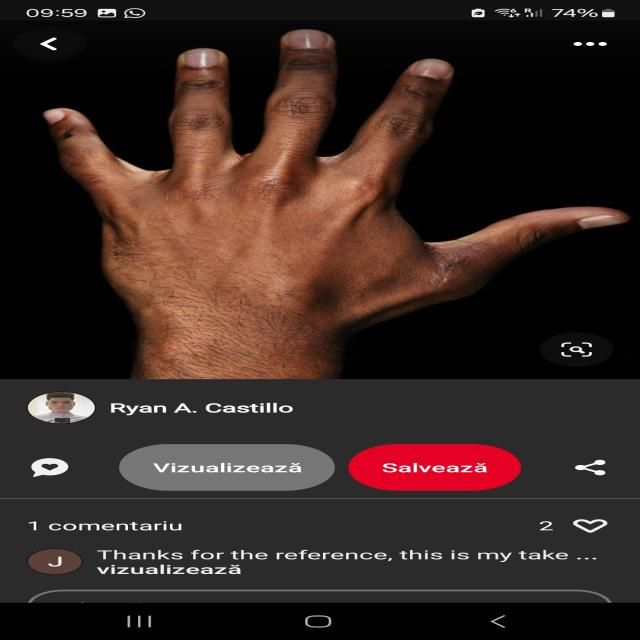hands: (20, 26, 640, 331)
